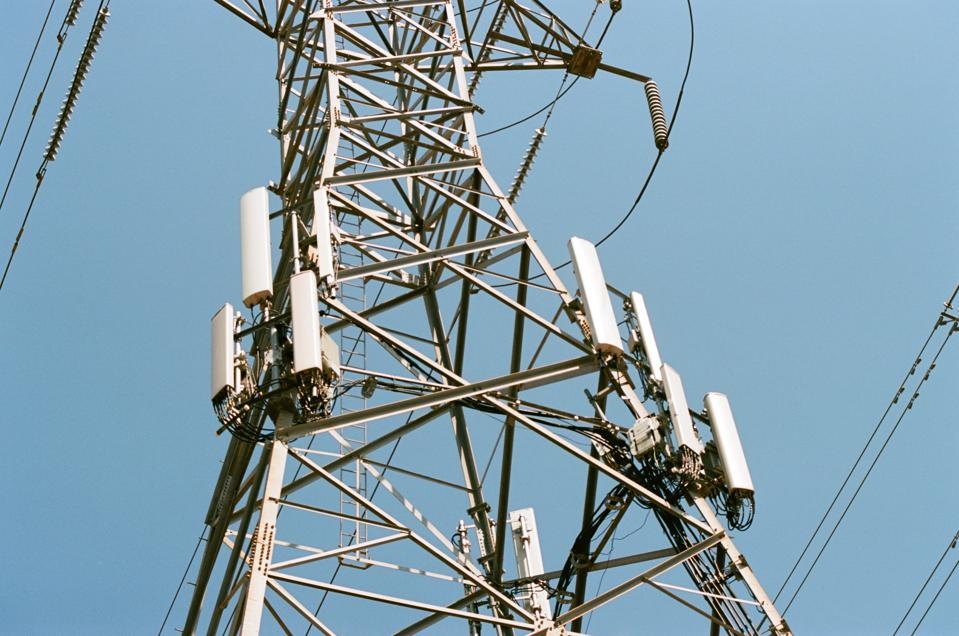sa: (557, 237, 625, 368), (231, 181, 294, 310), (509, 479, 562, 631), (189, 296, 247, 434), (707, 375, 750, 517)
